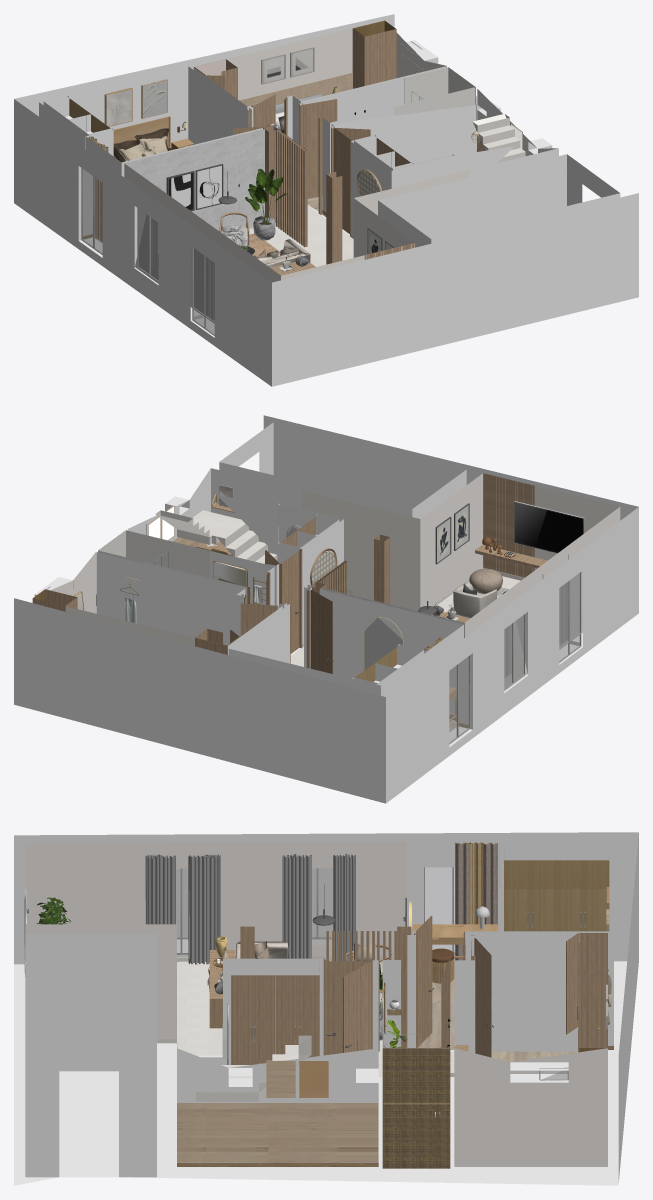
File: burgos-floor-0-lite.glb
The picture shows the model from 3 angles, top to bottom: view 1: azimuth 30°, elevation 25°; view 2: azimuth 150°, elevation 25°; view 3: azimuth 270°, elevation 25°; orthographic projection. The views are drawn at different scales.
Visible parts, largest first — view 1: structure, piece_103, piece_115, piece_58, piece_56, piece_121, piece_57, piece_6, piece_123, piece_106, piece_154, piece_185 (+5 smaller); view 2: structure, piece_103, piece_117, piece_58, piece_185, piece_56, piece_57, piece_43, piece_42, piece_212, piece_119, piece_5 (+2 smaller); view 3: structure, piece_58, piece_60, piece_61, piece_62, piece_6, piece_56, piece_109, piece_57, piece_46, piece_108, piece_253 (+2 smaller).
Boxes of the visible parts, <box> form: structure: <box>14,14,638,386</box>; piece_103: <box>393,67,475,115</box>; piece_115: <box>113,116,172,162</box>; piece_58: <box>192,229,214,335</box>; piece_56: <box>81,168,102,254</box>; piece_121: <box>245,169,287,240</box>; piece_57: <box>137,208,158,282</box>; piece_6: <box>254,239,315,275</box>; piece_123: <box>195,164,223,209</box>; piece_106: <box>104,87,132,126</box>; piece_154: <box>141,79,167,118</box>; piece_185: <box>452,146,513,173</box>; structure: <box>14,415,638,803</box>; piece_103: <box>98,530,209,577</box>; piece_117: <box>514,501,584,553</box>; piece_58: <box>542,572,581,662</box>; piece_185: <box>217,495,279,555</box>; piece_56: <box>449,655,469,744</box>; piece_57: <box>504,614,524,689</box>; piece_43: <box>453,583,497,618</box>; piece_42: <box>475,537,547,568</box>; piece_212: <box>469,568,502,593</box>; piece_119: <box>435,516,451,564</box>; piece_5: <box>213,561,247,586</box>; structure: <box>14,832,638,1185</box>; piece_58: <box>175,854,220,964</box>; piece_60: <box>282,854,311,958</box>; piece_61: <box>145,854,175,924</box>; piece_62: <box>333,854,355,961</box>; piece_6: <box>207,936,288,1028</box>; piece_56: <box>424,867,454,953</box>; piece_109: <box>412,906,498,983</box>; piece_57: <box>312,868,333,939</box>; piece_46: <box>566,933,578,1034</box>; piece_108: <box>266,1060,295,1097</box>; piece_253: <box>299,1061,328,1097</box>.
Size of the model in its own units: 9.29 by 2.51 by 10.92.
Materials: 270 (192 with a texture image).
